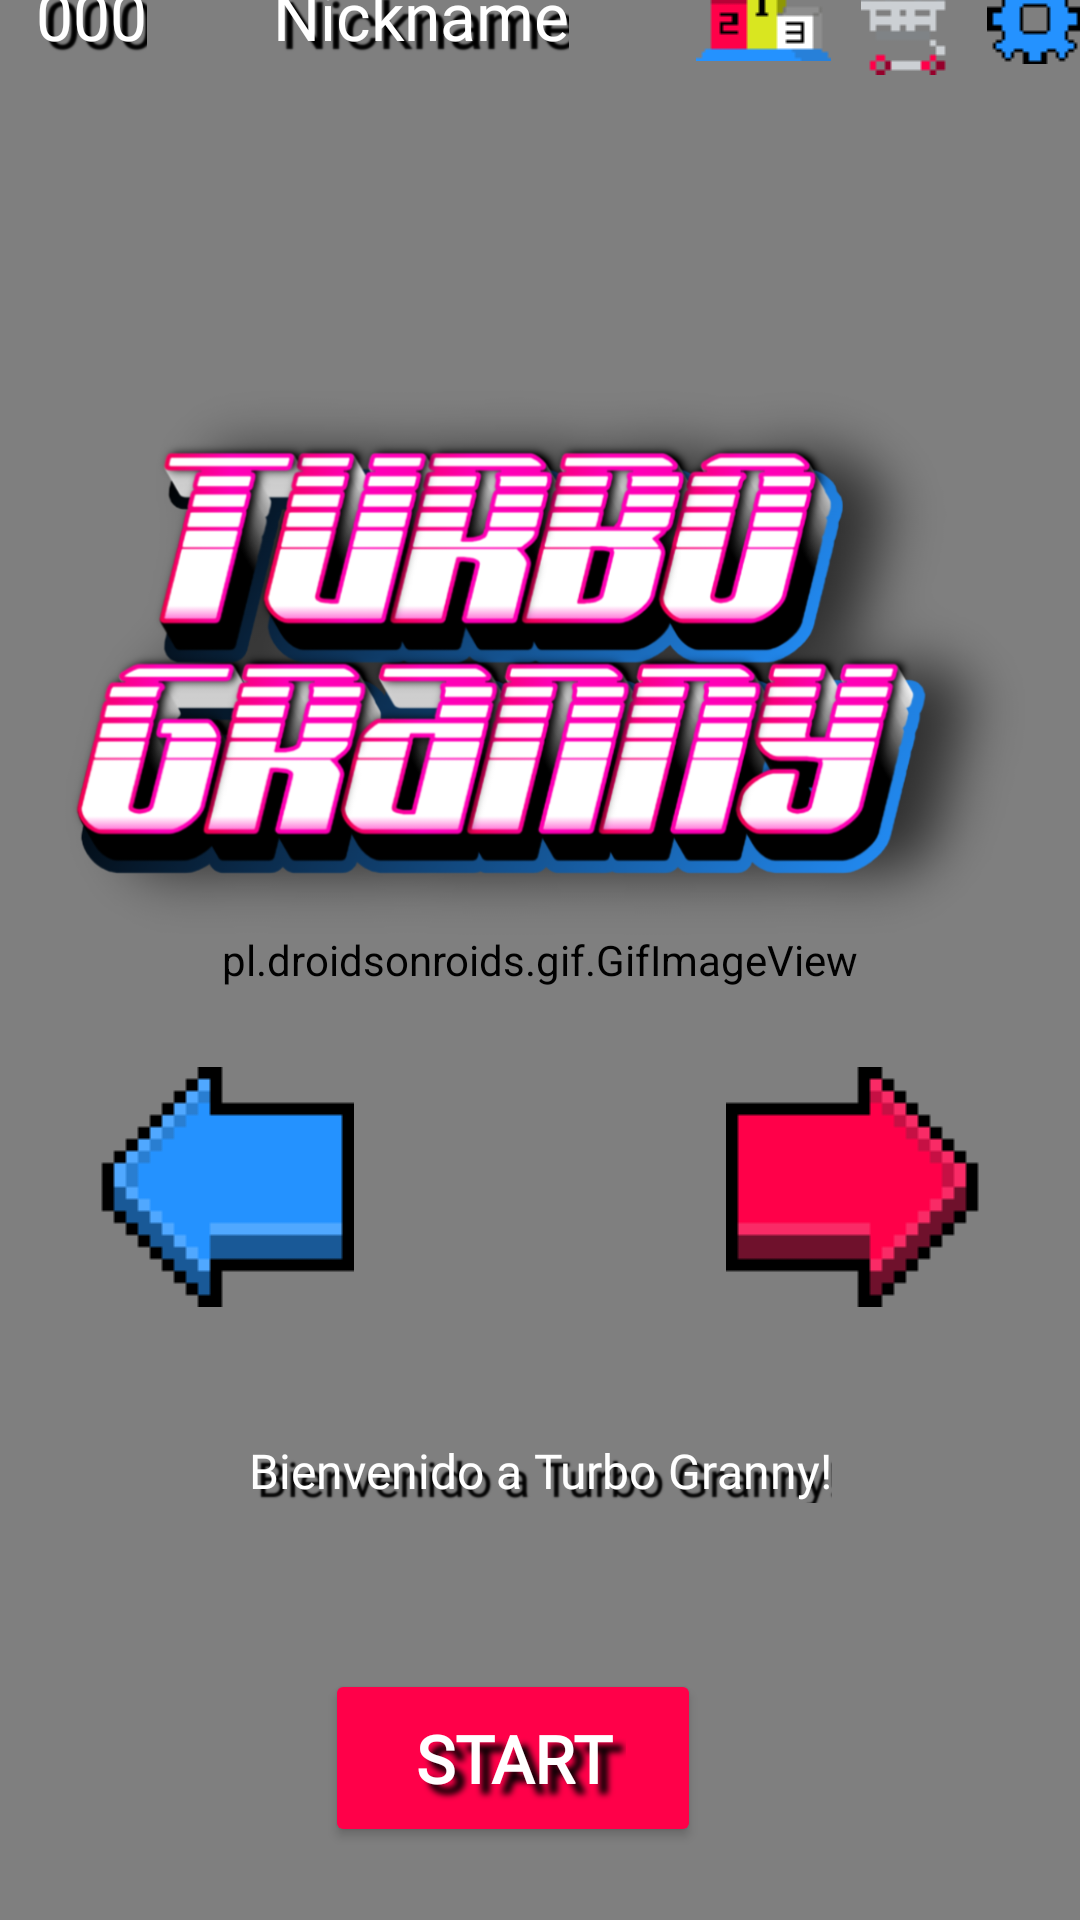

Where icons sit on this 1080*1920 app screen, as bbox(x1, y1, x2, y2):
left arrow: bbox(101, 1067, 354, 1307)
right arrow: bbox(726, 1067, 979, 1307)
